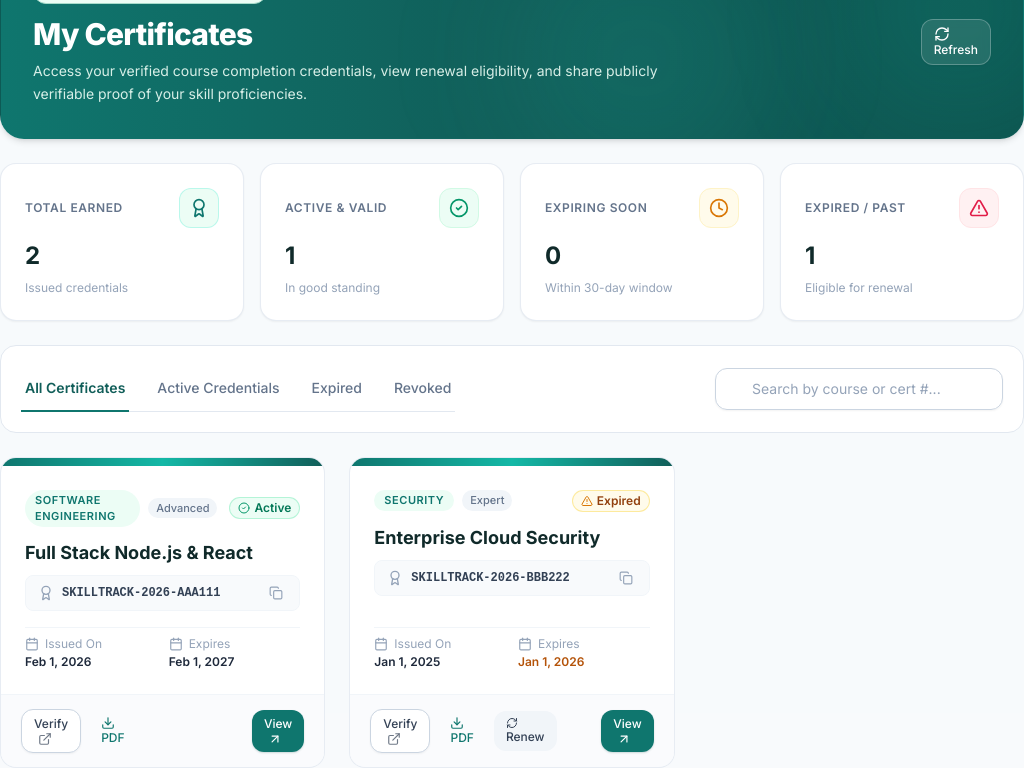
Scenario: CertificatesPage › opens renewal modal, enters reason, and submits renewal
The width and height of the screenshot is (1024, 768).
(page scrolled)
Check: the heading "Enterprise Cloud Security" is shown, box [374, 526, 600, 548]
Note: The expired certificate has a Renew button
Click the button "Renew": (525, 730) [494, 710, 557, 750]
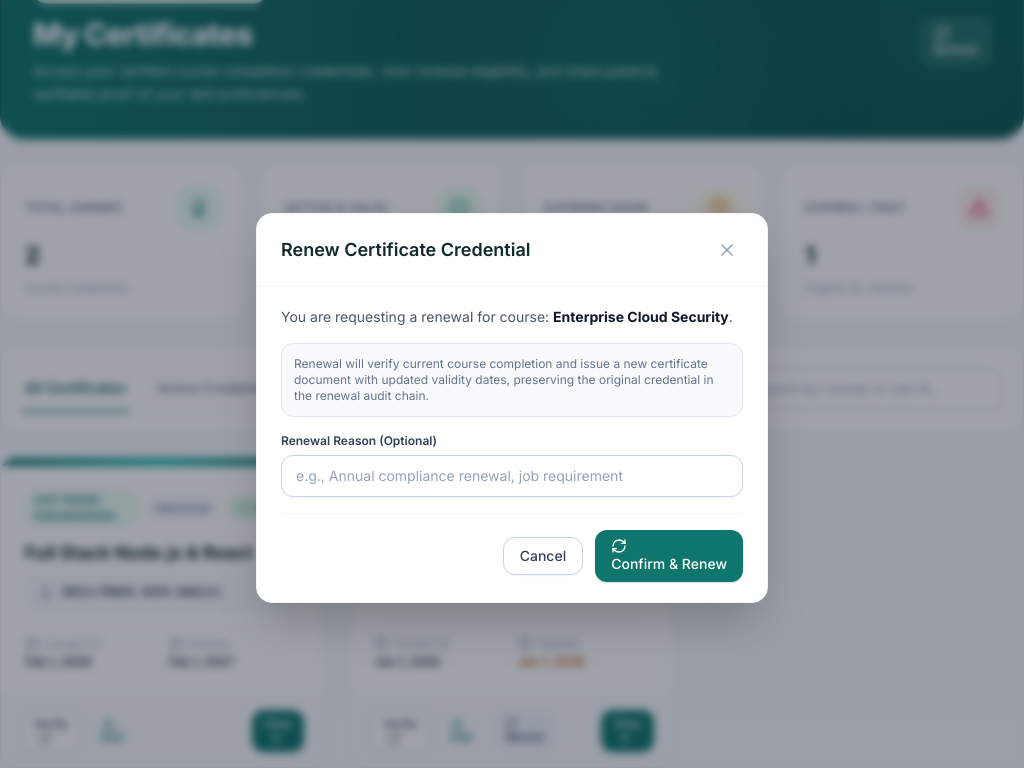
Check: the heading "Renew Certificate Credential" is shown, box [281, 236, 530, 264]
In the field with placeholder "e.g., Annual compliance renewal, job requirement": (512, 476) [281, 455, 743, 497], type "Annual retraining requirement"
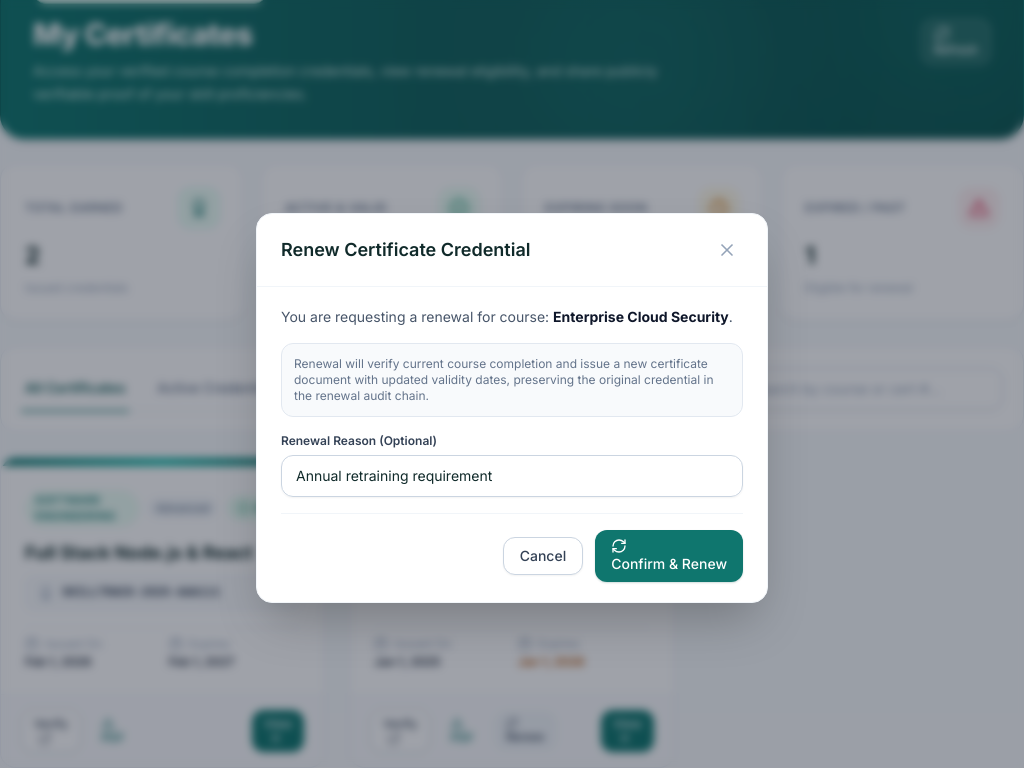
Click the button "Confirm & Renew": (669, 556) [595, 530, 743, 582]
(page scrolled)
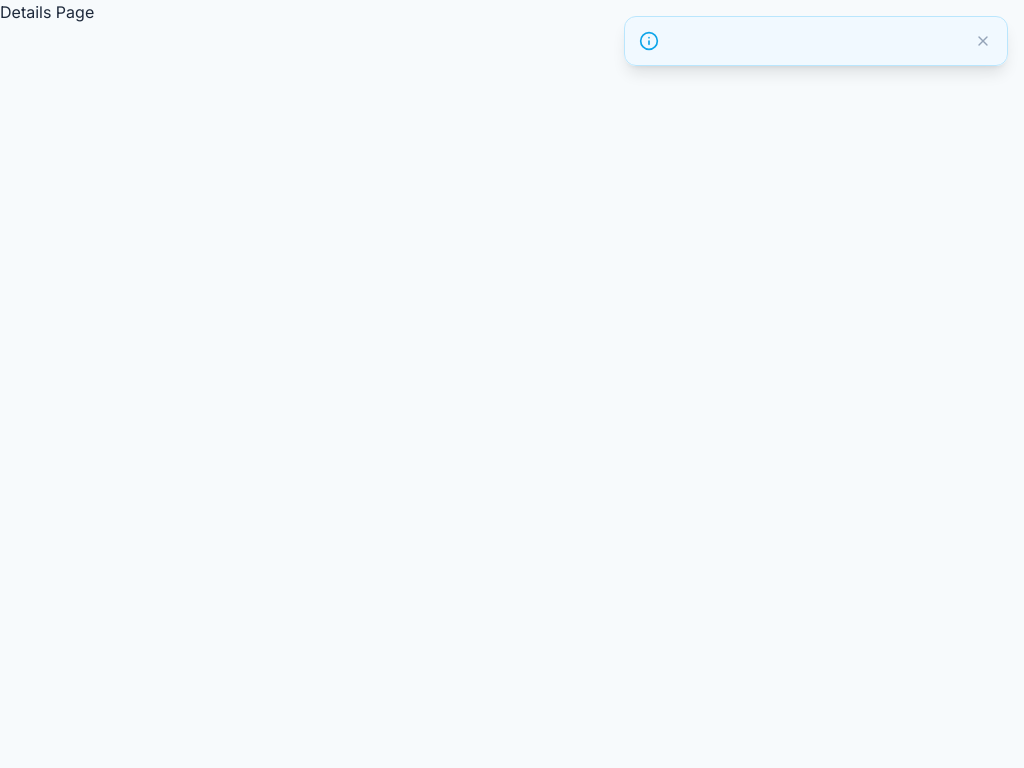
Check: the text "Details Page" is shown, box [0, 2, 94, 22]
